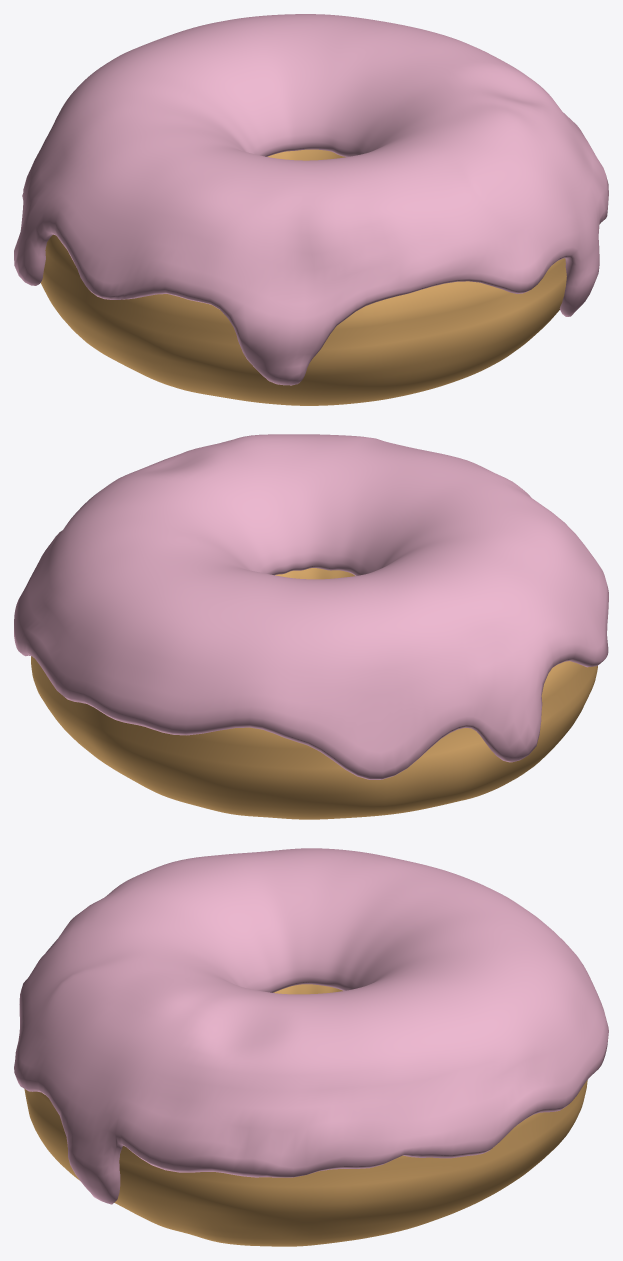
File: donut.glb
3 renders of one model, top to bottom at view 1: azimuth 30°, elevation 25°; view 2: azimuth 150°, elevation 25°; view 3: azimuth 270°, elevation 25°, orthographic.
Visible parts, largest first — view 1: Icing, Donut; view 2: Icing, Donut; view 3: Icing, Donut.
Boxes of the visible parts, box(x1,y1,x2,y2) form: Icing: box(14, 14, 608, 385); Donut: box(41, 149, 566, 405); Icing: box(14, 434, 608, 779); Donut: box(31, 568, 597, 819); Icing: box(14, 848, 608, 1204); Donut: box(24, 984, 587, 1246).
Size of what is drawn, in the model's own units: 0.2046 by 0.0858 by 0.2018.
